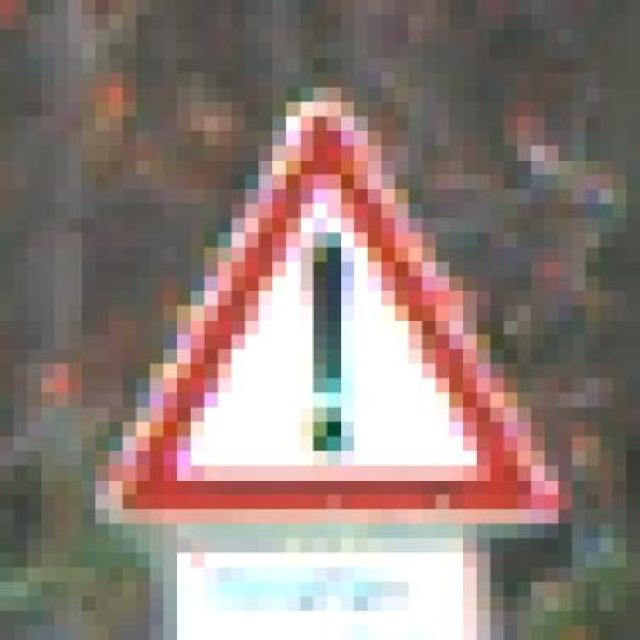Attention Please-: (54, 73, 572, 553)
